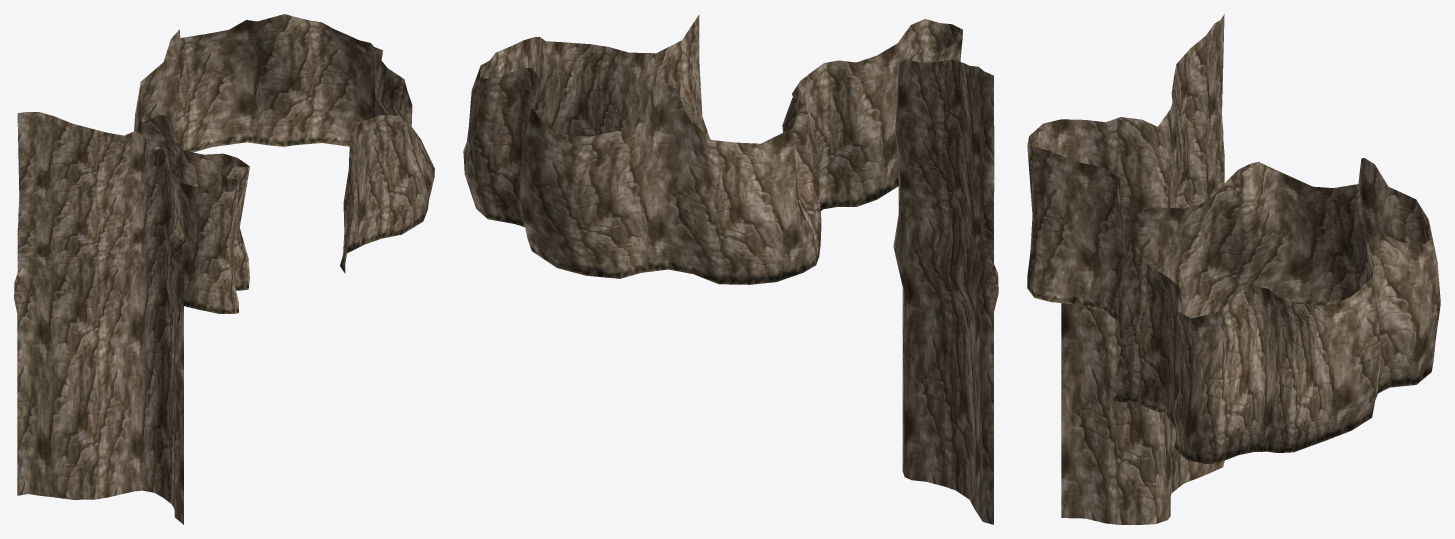
Rendered from OVERHILL_A_01_OBJECT39.fbx.
3 renders of one model, left to right at view 1: azimuth 30°, elevation 25°; view 2: azimuth 150°, elevation 25°; view 3: azimuth 270°, elevation 25°, orthographic. The views are drawn at different scales.
Visible parts, largest first — view 1: OVERHILL_A_01_OBJECT39; view 2: OVERHILL_A_01_OBJECT39; view 3: OVERHILL_A_01_OBJECT39.
Boxes of the visible parts, <box> form: OVERHILL_A_01_OBJECT39: <box>14,14,434,524</box>; OVERHILL_A_01_OBJECT39: <box>463,14,998,524</box>; OVERHILL_A_01_OBJECT39: <box>1027,14,1440,524</box>.
Size of the model in its own units: 341430 by 295351 by 246440.
2 materials, 2 textured.
